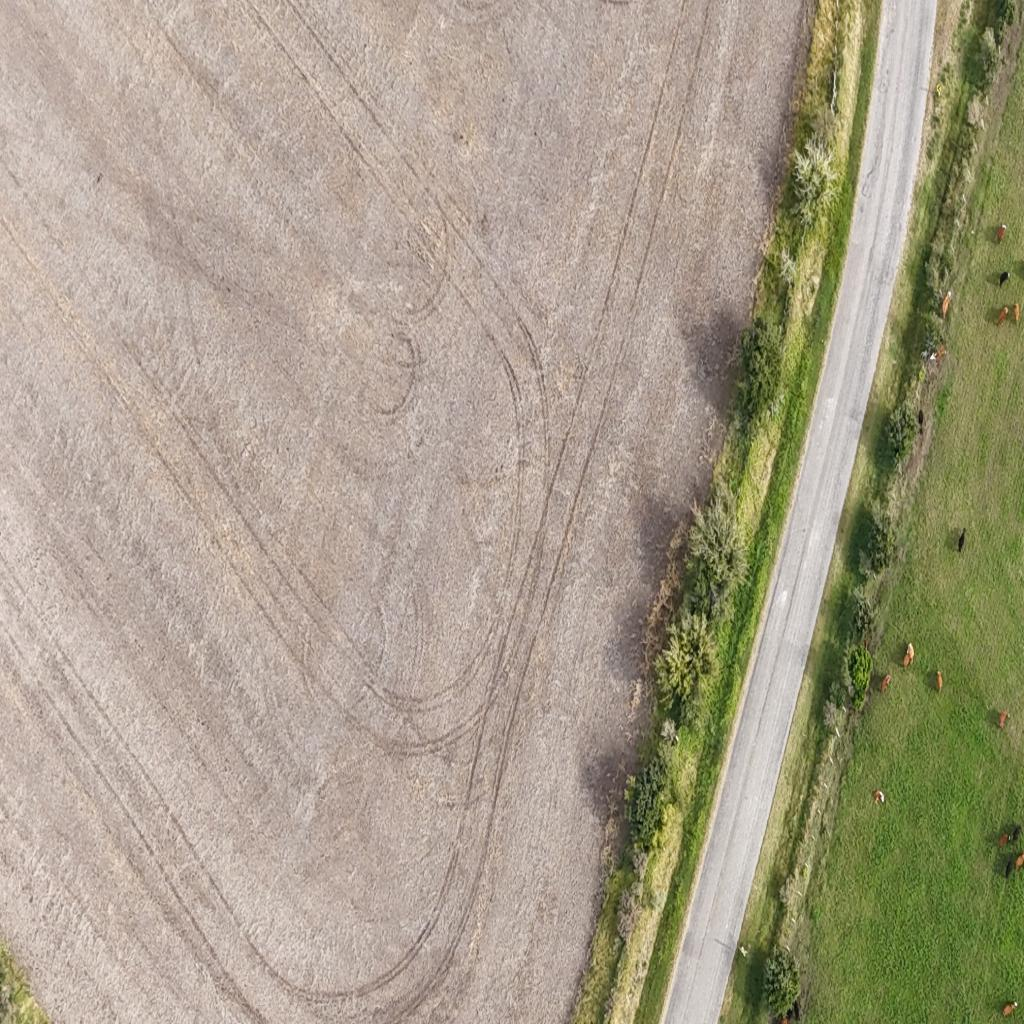cow: (998, 996, 1018, 1020), (1010, 823, 1022, 846), (1000, 304, 1011, 328), (1003, 858, 1014, 881), (881, 672, 892, 694), (873, 788, 886, 806), (1000, 711, 1011, 731), (935, 346, 947, 363), (998, 224, 1008, 244), (907, 641, 915, 665), (936, 670, 944, 694), (958, 530, 966, 554), (791, 1001, 800, 1022), (1000, 271, 1010, 287), (943, 305, 951, 323), (918, 415, 924, 437), (945, 289, 952, 307), (1019, 302, 1024, 326), (863, 638, 870, 654), (930, 352, 937, 362)
